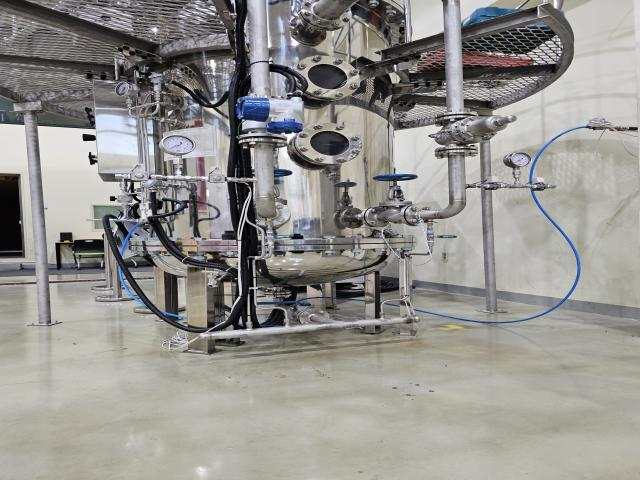Flange: (288, 53, 366, 102), (289, 122, 364, 166)
Flush Ring: (294, 0, 357, 30), (247, 200, 294, 227), (233, 133, 290, 150), (399, 203, 434, 227), (295, 306, 336, 325), (430, 112, 482, 126), (429, 146, 482, 159), (360, 206, 390, 228)
GasRegulator: (110, 70, 200, 125)
Nuts: (201, 172, 236, 185), (524, 180, 555, 194), (122, 171, 156, 183), (474, 181, 508, 192)
Piston Valve: (371, 166, 426, 204), (270, 166, 297, 199)
Pressure Gage: (156, 134, 198, 174), (500, 150, 533, 185)
